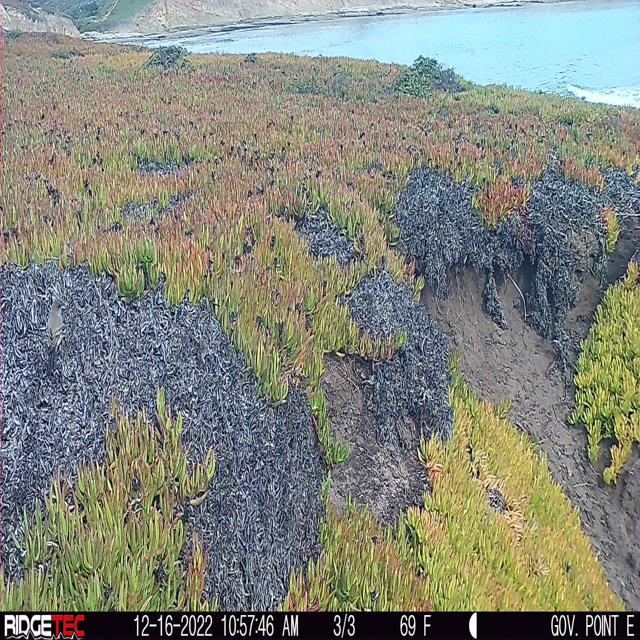bird: (39, 284, 67, 369)
